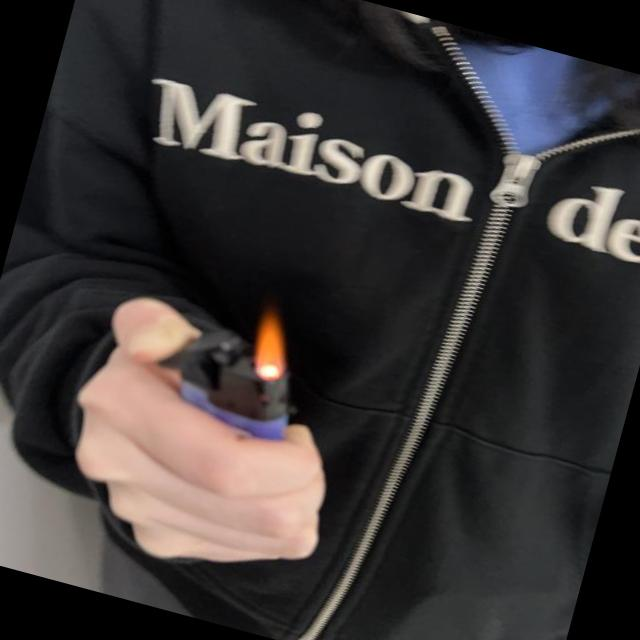Fire: (243, 306, 300, 387)
